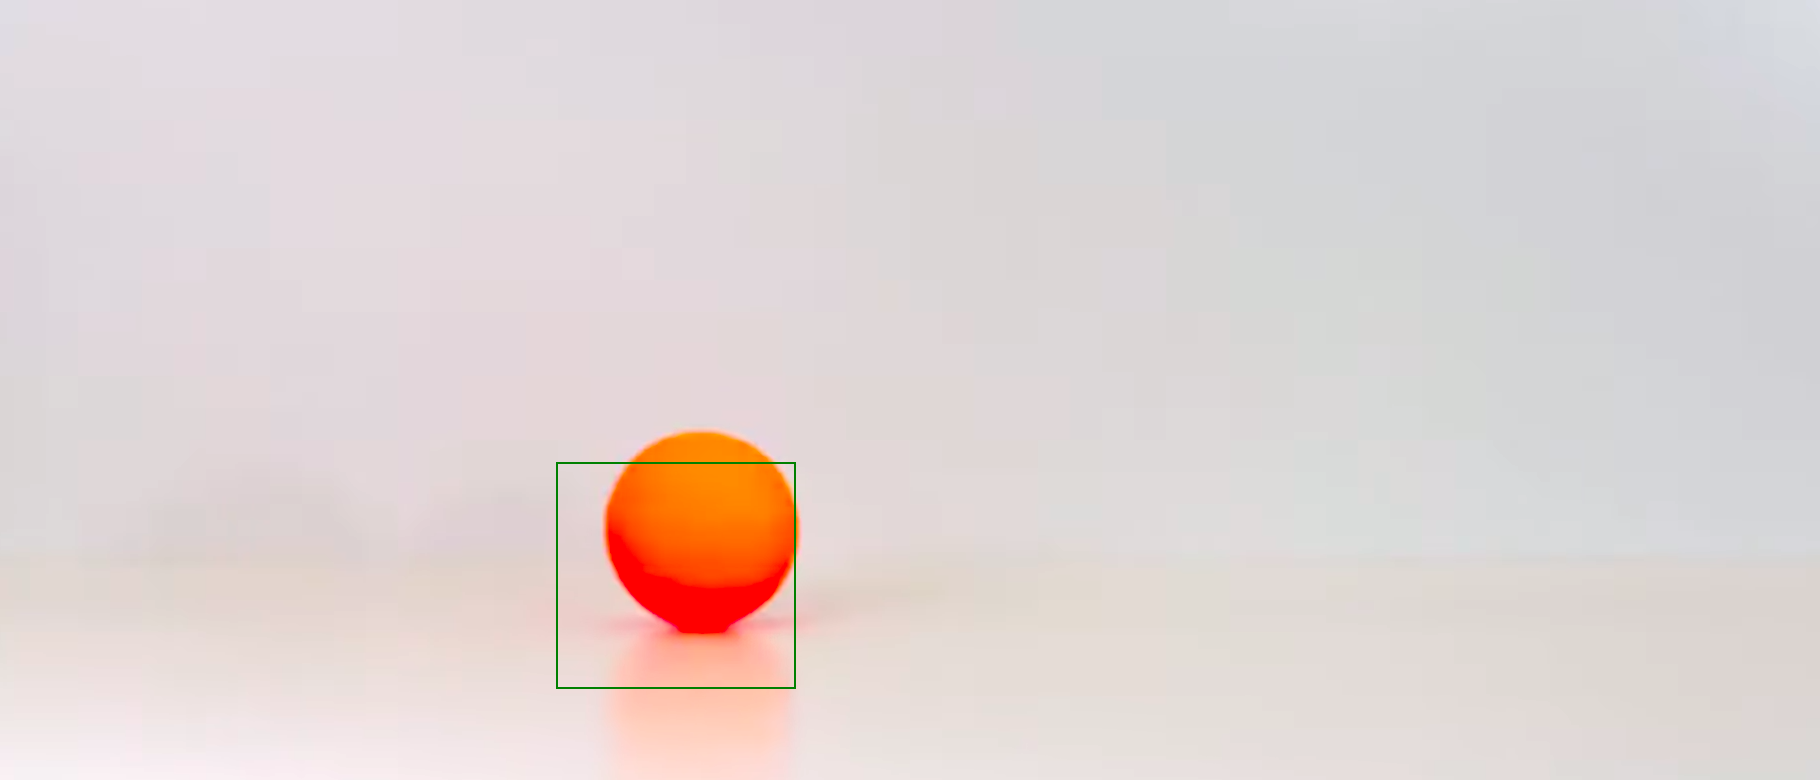Circle: (602, 426, 802, 637)
